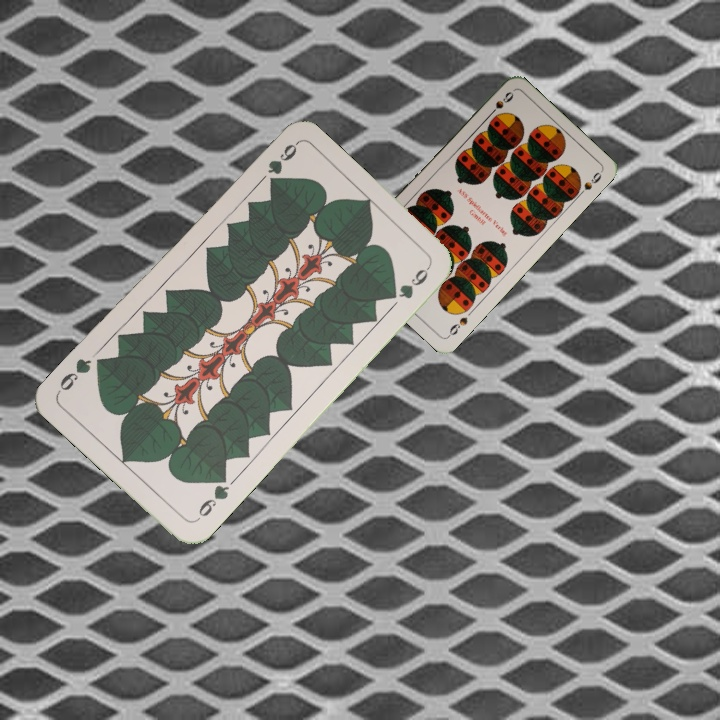G9: (192, 470, 232, 524), (264, 140, 300, 177)
S9: (484, 87, 516, 120), (444, 313, 470, 340)
